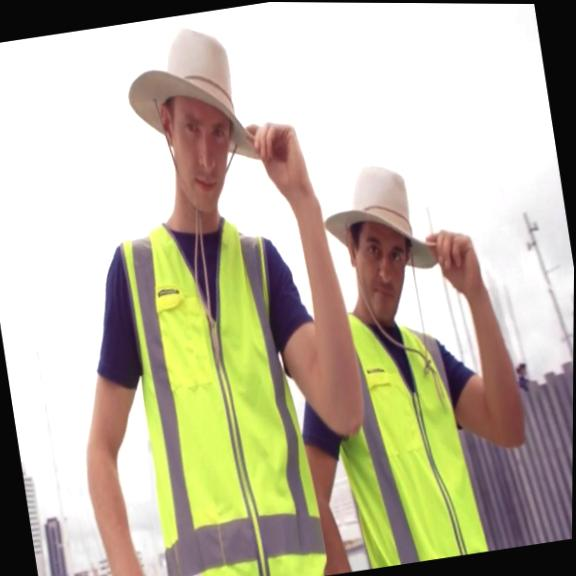safety_vest: (110, 205, 334, 576), (316, 292, 492, 572)
